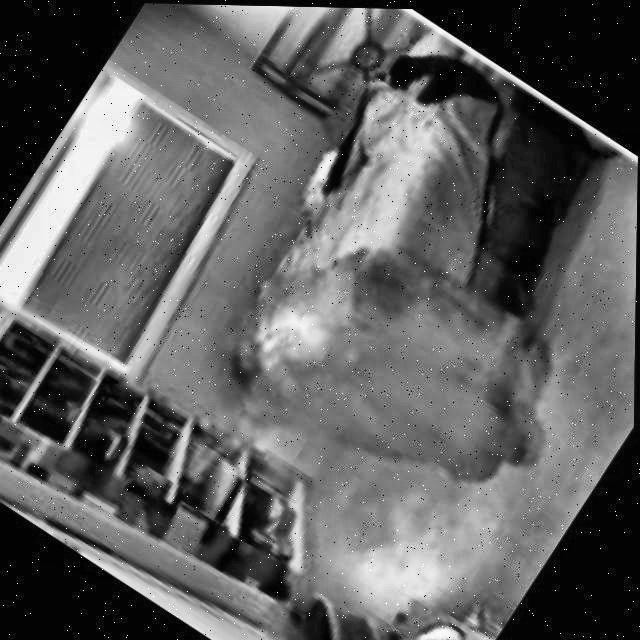Smoke: (90, 111, 639, 640)
